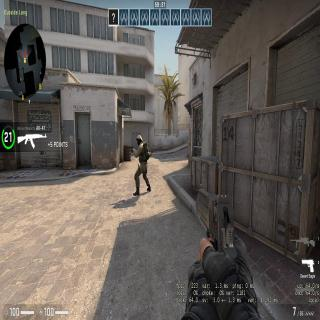CT-Body: (133, 135, 151, 192)
CT-Head: (136, 135, 144, 146)
